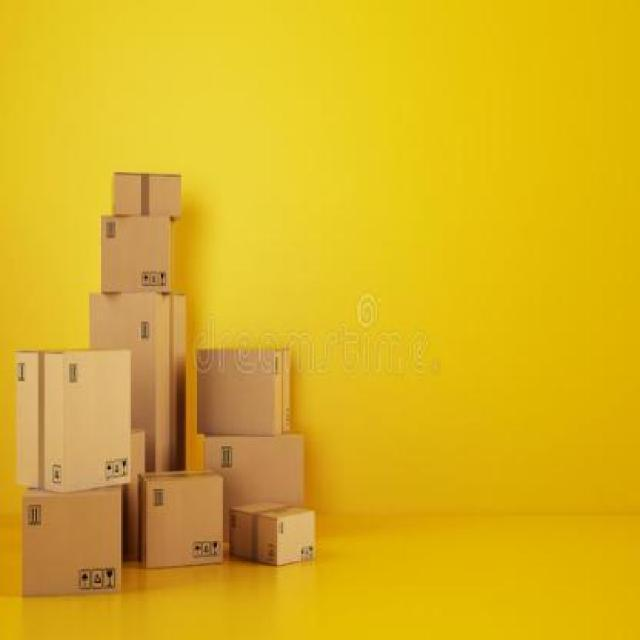box: (89, 290, 189, 475), (17, 343, 131, 494), (200, 431, 306, 541), (23, 483, 121, 597), (196, 344, 292, 439), (139, 467, 226, 567), (99, 209, 174, 291), (235, 498, 319, 570), (119, 428, 152, 562), (109, 171, 181, 216)
